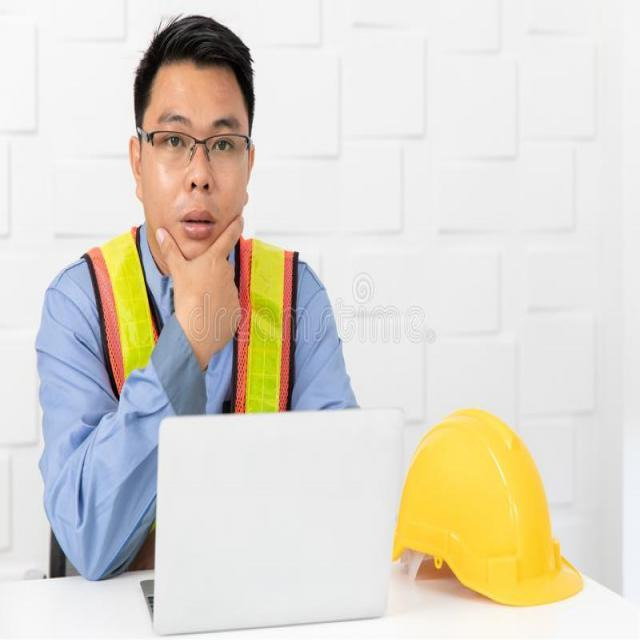reflective_jacket: (83, 231, 305, 421)
safety_helmet: (388, 397, 581, 613)
